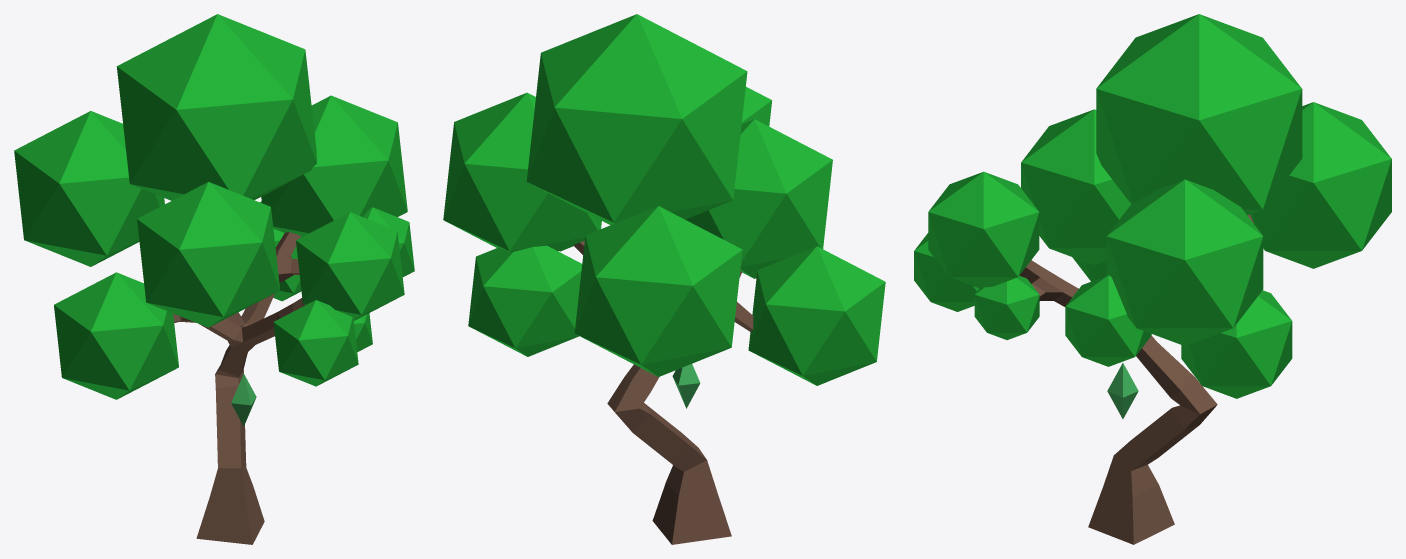
The model's file is ThornShooter_NatureTower.fbx.
The picture shows the model from 3 angles, left to right: view 1: azimuth 30°, elevation 25°; view 2: azimuth 150°, elevation 25°; view 3: azimuth 270°, elevation 25°; orthographic projection. The views are drawn at different scales.
Parts seen in each view (by area): view 1: Leaf.009, Leaf.003, Leaf.008, Leaf.007, Leaf.004, Tree, Leaf.001, Leaf, Leaf.005, Crystal, Leaf.006, Leaf.002; view 2: Leaf.009, Leaf.008, Leaf.004, Leaf.007, Leaf.003, Leaf.006, Tree, Leaf.001, Crystal; view 3: Leaf.009, Leaf.007, Leaf.008, Tree, Leaf.003, Leaf.001, Leaf.006, Leaf.005, Leaf.002, Leaf, Crystal.
Boxes of the visible parts, <box> form: Leaf.009: <box>116,14,316,200</box>; Leaf.003: <box>137,182,280,327</box>; Leaf.008: <box>14,111,164,266</box>; Leaf.007: <box>261,95,407,237</box>; Leaf.004: <box>54,272,178,399</box>; Tree: <box>173,232,305,544</box>; Leaf.001: <box>296,212,404,320</box>; Leaf: <box>273,300,358,386</box>; Leaf.005: <box>363,207,414,276</box>; Crystal: <box>231,373,256,426</box>; Leaf.006: <box>260,201,301,301</box>; Leaf.002: <box>354,313,372,351</box>; Leaf.009: <box>526,14,747,225</box>; Leaf.008: <box>574,206,742,376</box>; Leaf.004: <box>748,246,885,385</box>; Leaf.007: <box>443,92,601,252</box>; Leaf.003: <box>685,119,832,278</box>; Leaf.006: <box>468,245,582,356</box>; Tree: <box>573,240,753,544</box>; Leaf.001: <box>741,87,772,126</box>; Crystal: <box>672,364,700,408</box>; Leaf.009: <box>1096,14,1302,215</box>; Leaf.007: <box>1106,179,1263,345</box>; Leaf.008: <box>1250,102,1391,268</box>; Tree: <box>1019,214,1253,544</box>; Leaf.003: <box>1021,109,1130,265</box>; Leaf.001: <box>928,171,1039,288</box>; Leaf.006: <box>1181,290,1292,398</box>; Leaf.005: <box>1065,275,1151,366</box>; Leaf.002: <box>974,276,1039,339</box>; Leaf: <box>914,233,979,311</box>; Crystal: <box>1107,363,1138,418</box>.
Size of the model in its own units: 4231 by 5479 by 4543.
